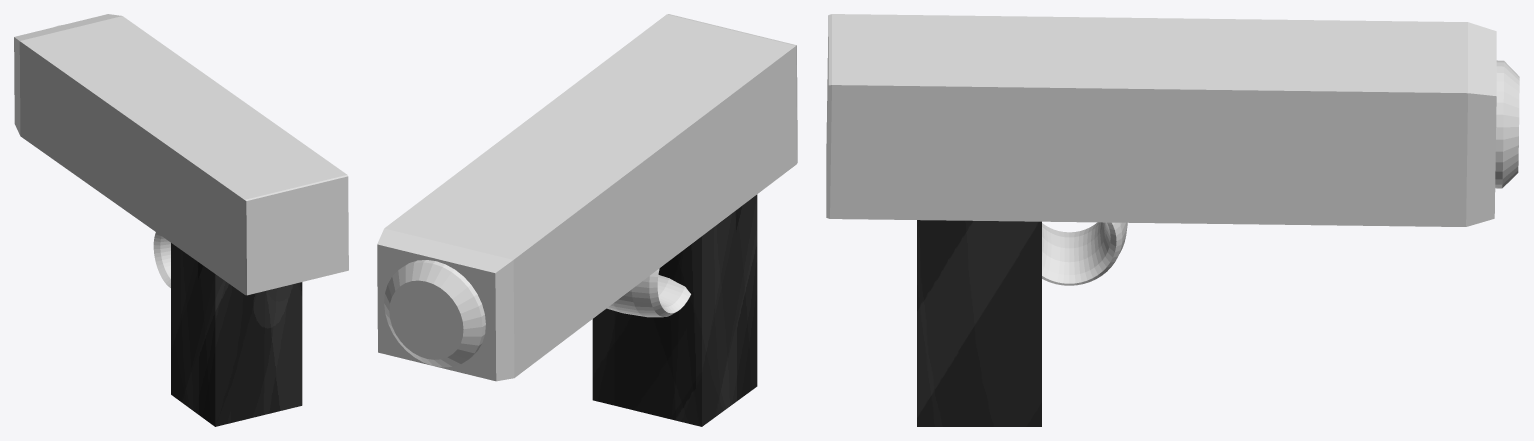
3 renders of one model, left to right at view 1: azimuth 30°, elevation 25°; view 2: azimuth 150°, elevation 25°; view 3: azimuth 270°, elevation 25°, orthographic. The views are drawn at different scales.
Parts seen in each view (by area): view 1: Slide, Grip, Detail.001; view 2: Slide, Grip, Detail, Detail.001; view 3: Slide, Grip, Detail.001, Detail.
Boxes of the visible parts, x1,y1,x2,y2 form: Slide: [14, 14, 348, 295]; Grip: [171, 243, 302, 426]; Detail.001: [153, 232, 170, 287]; Slide: [377, 14, 797, 381]; Grip: [592, 194, 757, 426]; Detail: [384, 260, 485, 367]; Detail.001: [607, 268, 690, 317]; Slide: [826, 14, 1496, 226]; Grip: [917, 220, 1041, 426]; Detail.001: [1042, 222, 1127, 285]; Detail: [1495, 60, 1519, 188].
Size of the model in its own units: 0.5908 by 1.37 by 2.44.
